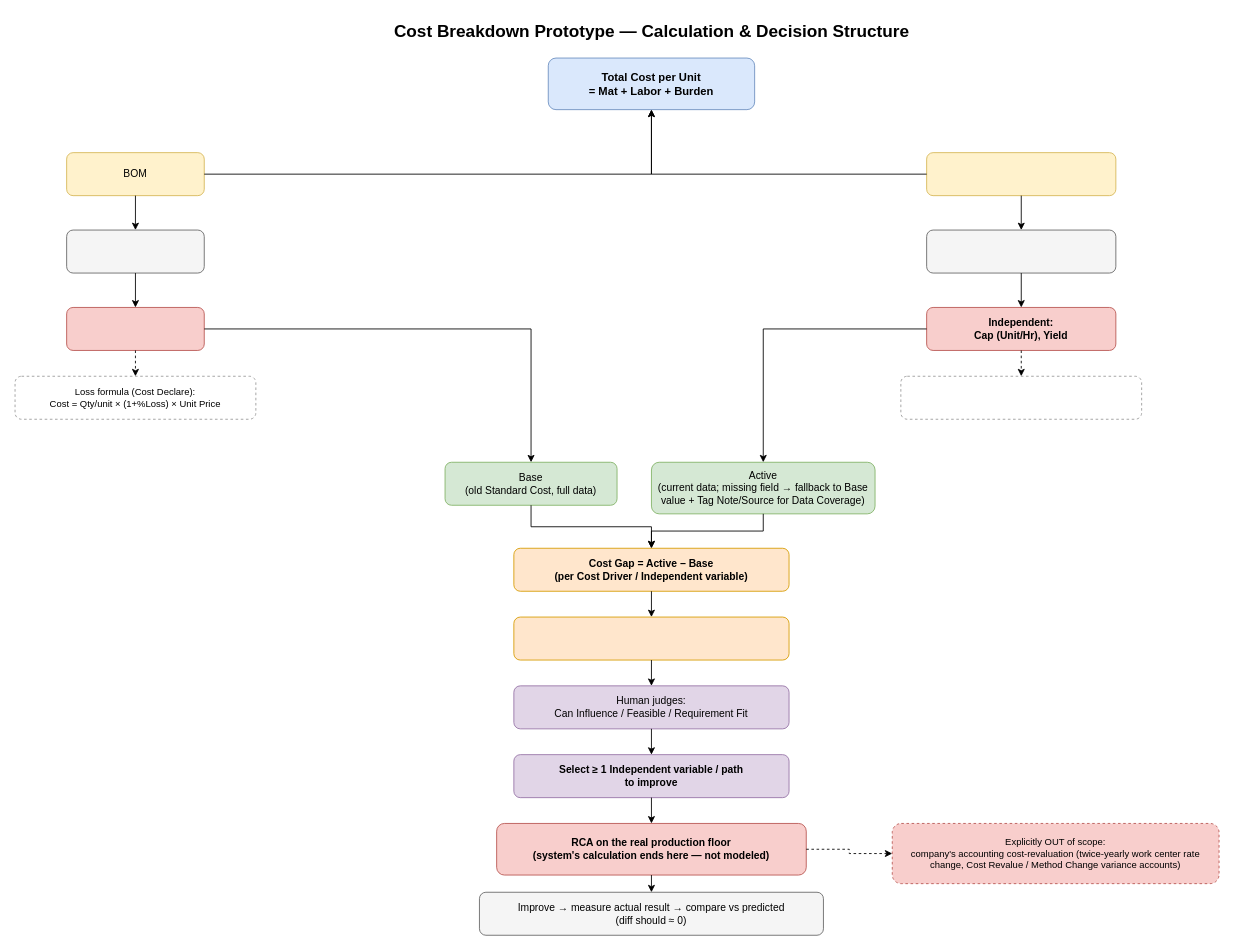
This 1234x950 diagram has some shape labels left out. The shapes that lost their labels are listed below. From the top down, each one's centre as x and y in pixels, then its label:
[1021,174]: Process (each has its own Cost Center)
[135,251]: Constant: Consumption, UOM
[1021,251]: Constant: LB rate, BD rate, MHr ("Machine & Man" working hour)
[135,328]: Independent: Price, Loss
[1021,397]: Runtime = (1/Cap) × MHr / Yield Cost = Runtime × Rate (LB or BD)
[651,638]: System auto-rank by Cost Impact (Cost Gap)
